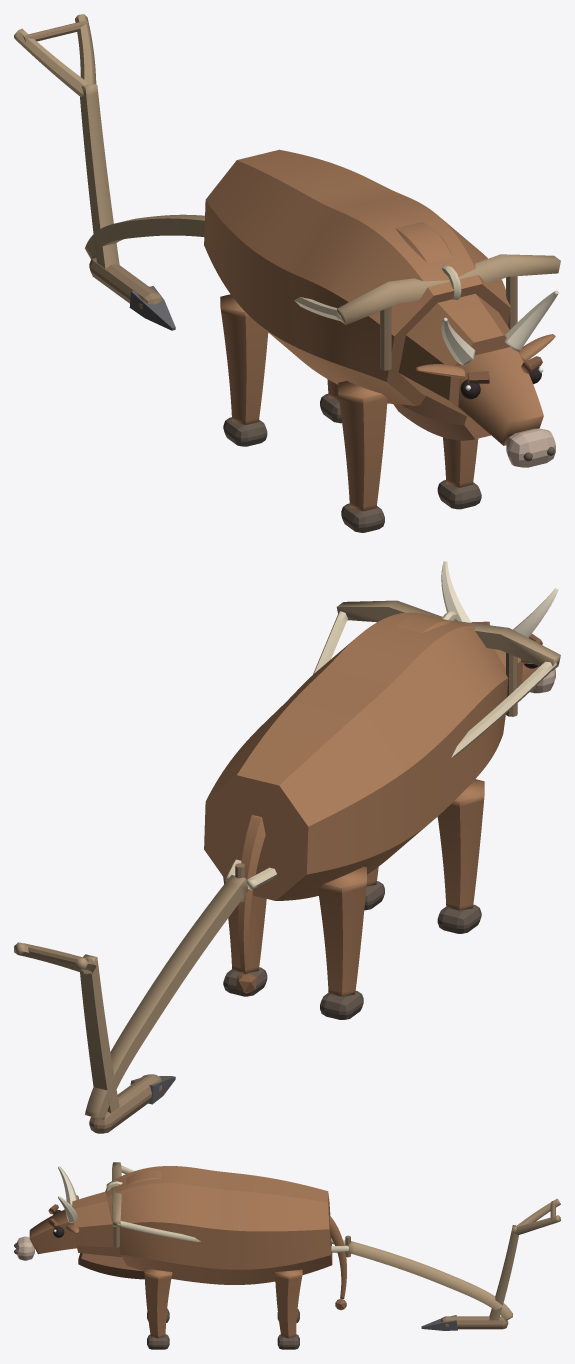
The model's file is a-sturdy-chestnut-brown-eastern-han-farm-ox.glb.
3 views of the same model, one above another, from view 1: azimuth 30°, elevation 25°; view 2: azimuth 150°, elevation 25°; view 3: azimuth 270°, elevation 25° (orthographic). The views are drawn at different scales.
Visible parts, largest first — view 1: Body, Head_Group, PloughBeam_Group, FrontLeg_R_Group, Yoke_Group, RearLeg_R_Group, PloughHandles_Group, FrontLeg_L_Group, RearLeg_L_Group; view 2: Body, PloughBeam_Group, RearLeg_R_Group, FrontLeg_R_Group, Yoke_Group, RearLeg_L_Group, Tail_Group, Head_Group, Trace_R_Group, PloughHandles_Group, Trace_L_Group; view 3: Body, PloughBeam_Group, Head_Group, FrontLeg_L_Group, RearLeg_L_Group, PloughHandles_Group, Yoke_Group, Trace_L_Group, Tail_Group.
Boxes of the visible parts, x1,y1,x2,y2 form: Body: (129,149,510,440); Head_Group: (415,290,558,467); PloughBeam_Group: (80,83,204,308); FrontLeg_R_Group: (338,381,387,532); Yoke_Group: (337,254,560,370); RearLeg_R_Group: (220,294,268,446); PloughHandles_Group: (14,14,96,96); FrontLeg_L_Group: (437,437,481,509); RearLeg_L_Group: (320,379,341,423); Body: (130,612,522,1104); PloughBeam_Group: (80,863,248,1133); RearLeg_R_Group: (318,866,366,1019); FrontLeg_R_Group: (437,779,484,933); Yoke_Group: (336,600,560,716); RearLeg_L_Group: (223,877,267,996); Tail_Group: (236,815,265,993); Head_Group: (441,561,558,693); Trace_R_Group: (246,661,556,890); PloughHandles_Group: (14,942,96,974); Trace_L_Group: (225,611,347,881); Body: (72,1166,457,1330); PloughBeam_Group: (345,1225,518,1329); Head_Group: (14,1166,79,1260); FrontLeg_L_Group: (144,1268,172,1349); RearLeg_L_Group: (275,1269,302,1349); PloughHandles_Group: (514,1198,560,1234); Yoke_Group: (105,1162,122,1247); Trace_L_Group: (116,1220,348,1252); Tail_Group: (329,1215,346,1310).
Bounding box in the file's own units: 0.5094 × 0.6468 × 2.
